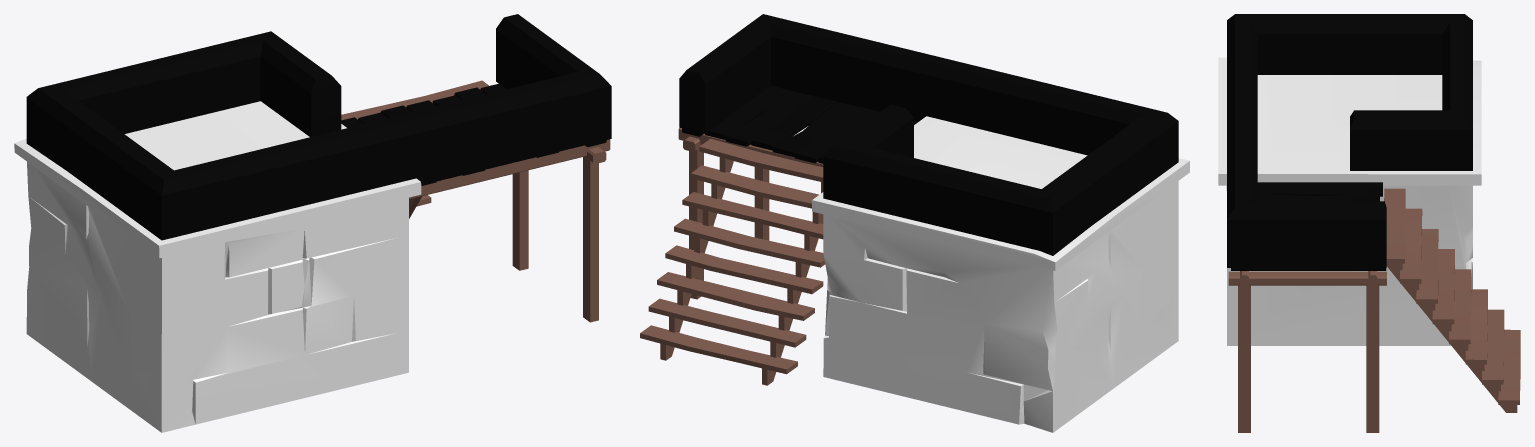
File: roof_building_11.FBX
3 renders of one model, left to right at view 1: azimuth 30°, elevation 25°; view 2: azimuth 150°, elevation 25°; view 3: azimuth 270°, elevation 25°, orthographic. The views are drawn at different scales.
Parts seen in each view (by area): view 1: roof_building_11_LOD0; view 2: roof_building_11_LOD0; view 3: roof_building_11_LOD0.
Part boxes in pixels (x1=…): roof_building_11_LOD0: x1=14, y1=14, x2=611, y2=432; roof_building_11_LOD0: x1=640, y1=14, x2=1189, y2=432; roof_building_11_LOD0: x1=1218, y1=14, x2=1520, y2=432.
Size of what is drawn, in the model's own units: 705 by 360 by 438.
